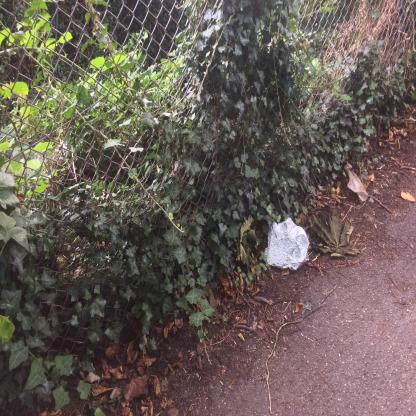metal: (265, 219, 311, 272)
